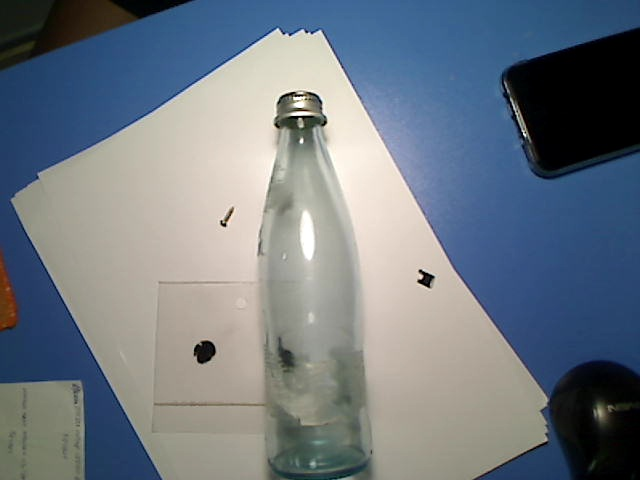bottle: (262, 89, 373, 477)
